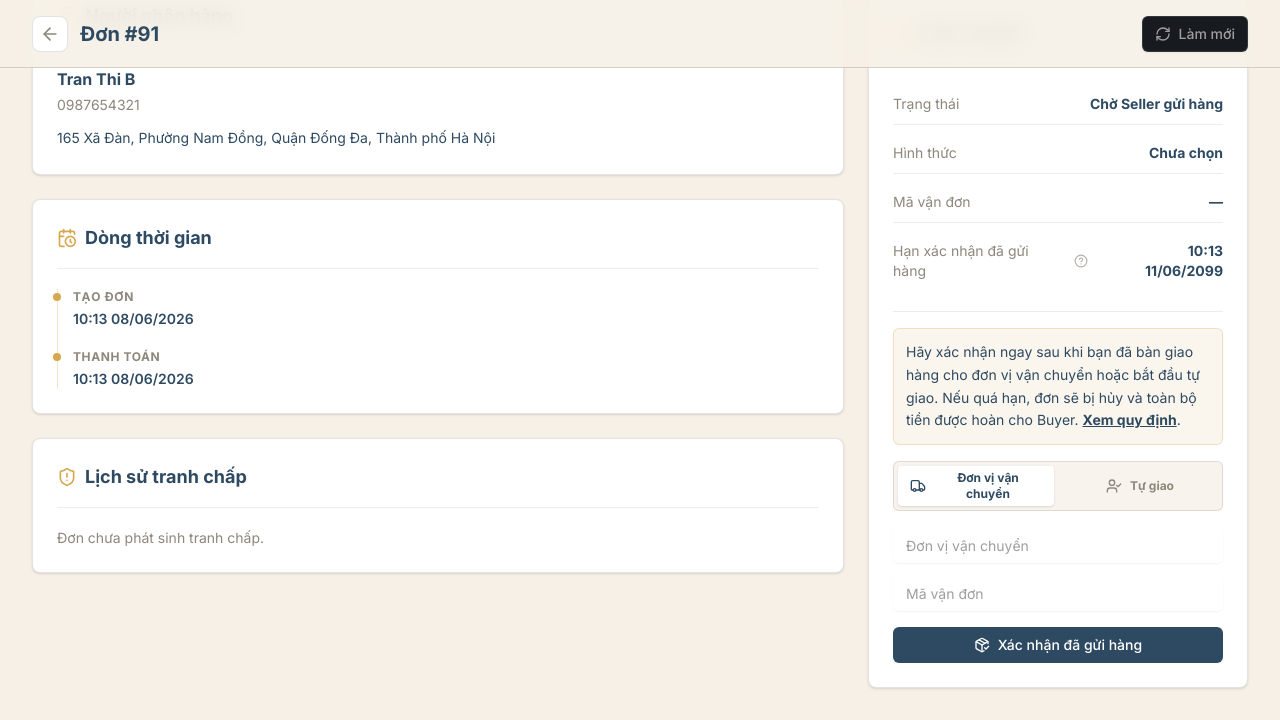
Test: SellerOrderDetailPage › renders buyer account, receiver details, and validates shipping form
(page scrolled)
Expected: the text "Tran Thi B" is shown, [57,69,136,89]
Expected: the text "165 Xã Đàn, Phường Nam Đồng, Quận Đống Đa, Thành phố Hà Nội" is shown, [57,129,495,146]
Click the button "Xác nhận đã gửi hàng": [1058, 645] box [893,627,1223,663]
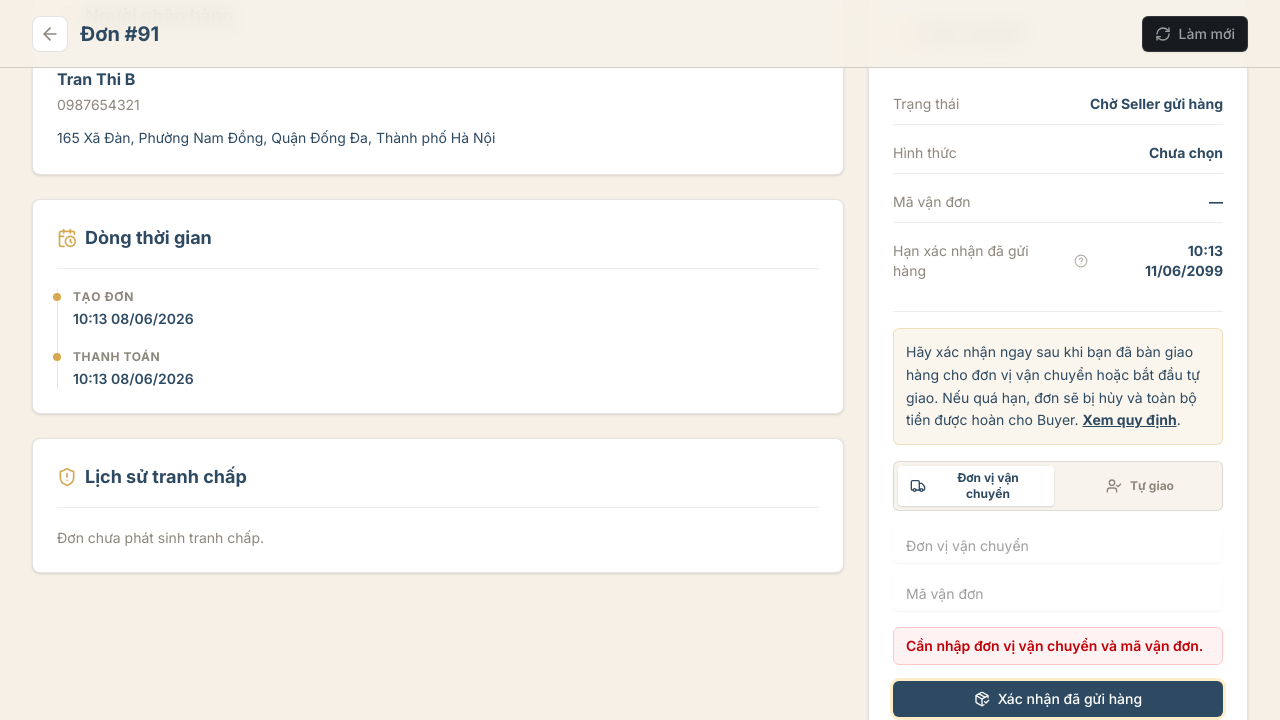
Expected: the text "Cần nhập đơn vị vận chuyển và mã vận đơn." is shown, [893,627,1223,665]
